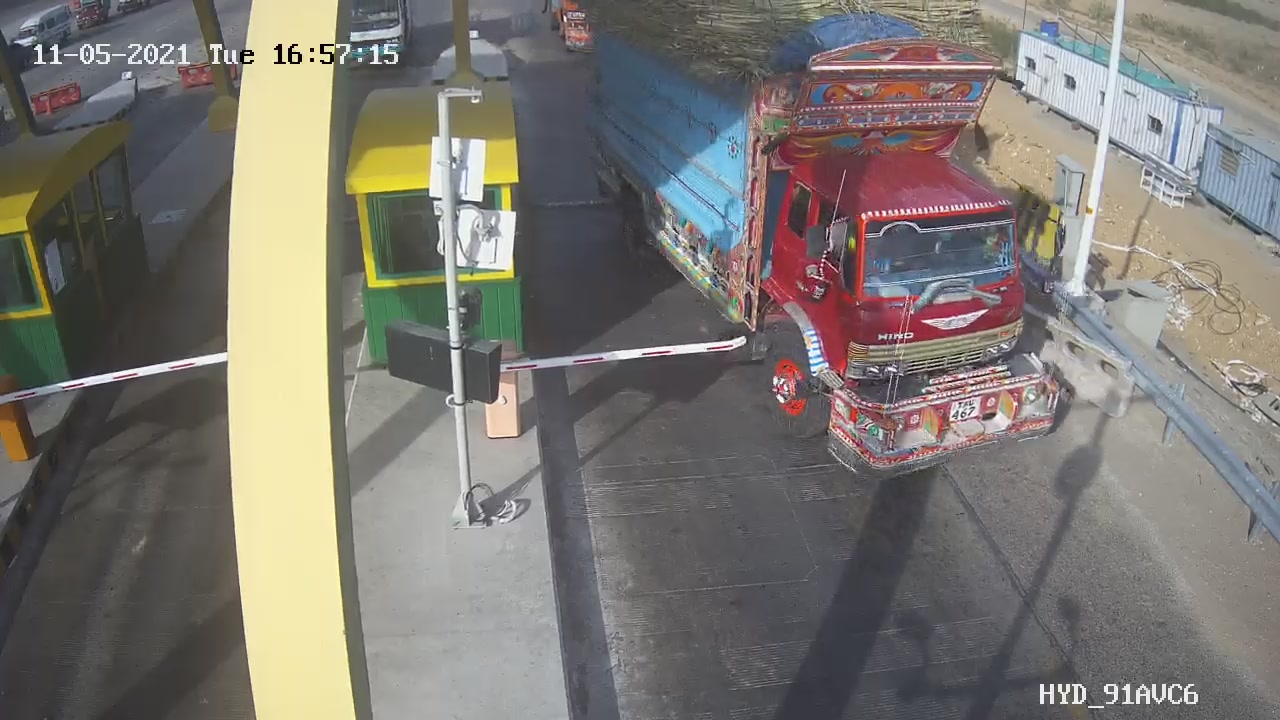F5: (581, 1, 1079, 499)
